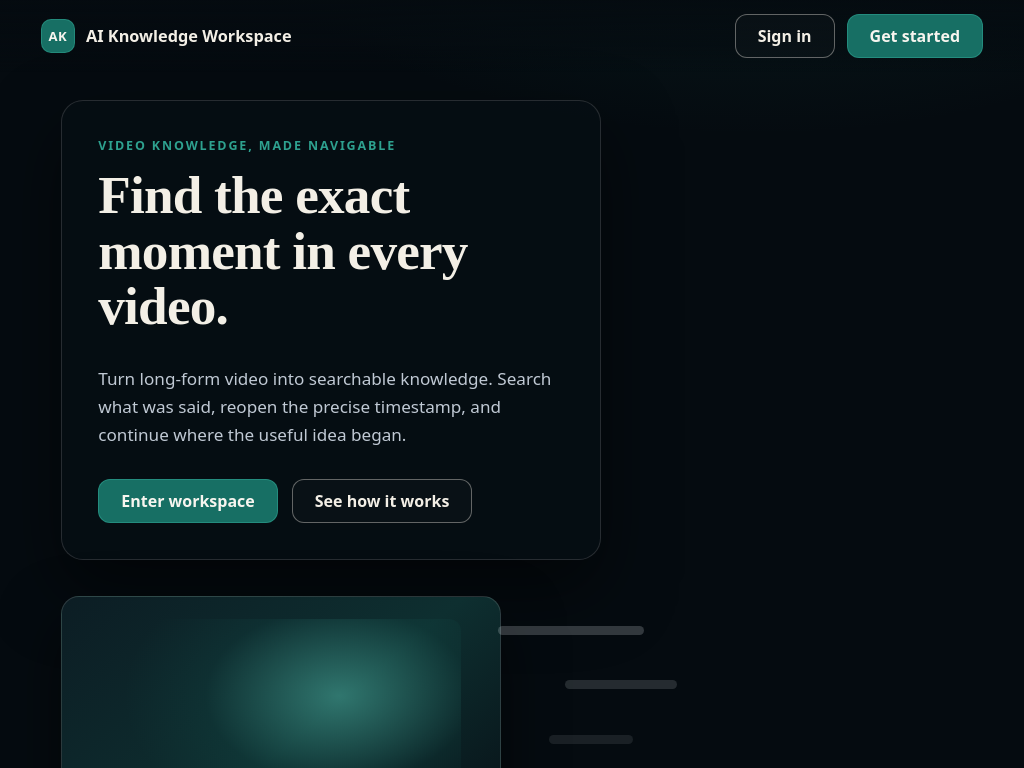
auth mode UI boundary › flags missing public Keycloak configuration without starting login
The image size is (1024, 768).
Click the link "Sign in". click: (785,36)
box: [735,14,835,58]
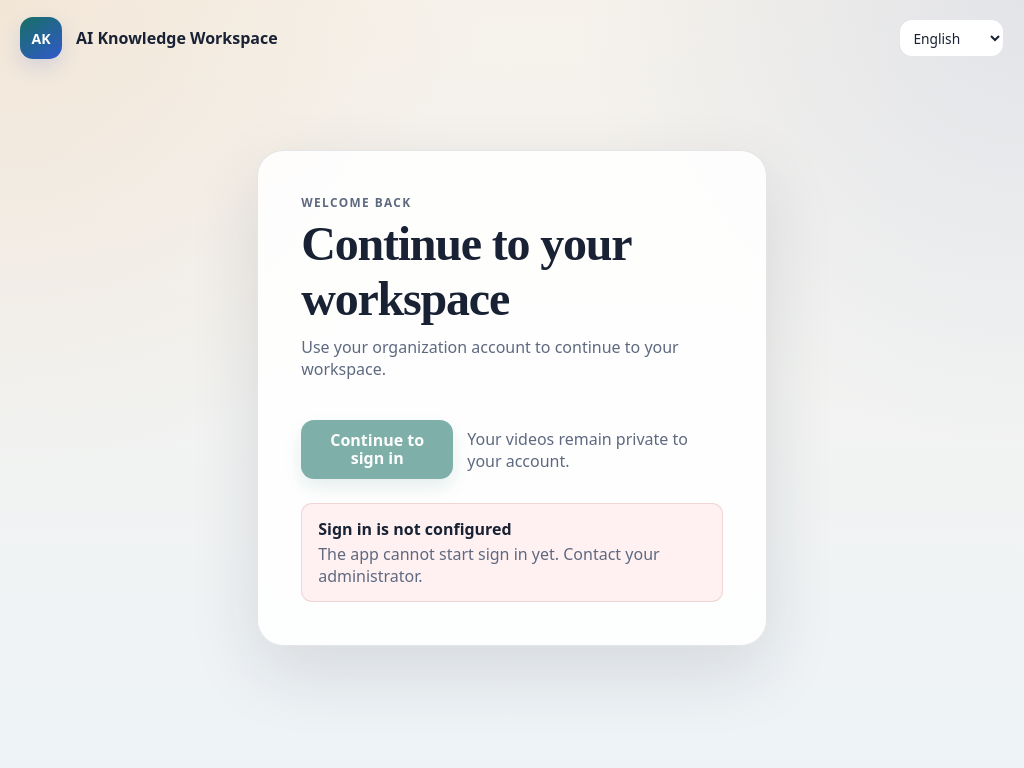
Expected: the text "Sign in is not configured" is shown, [318,518,512,540]
Expected: the button "Continue to sign in" is disabled, [301,420,453,479]
